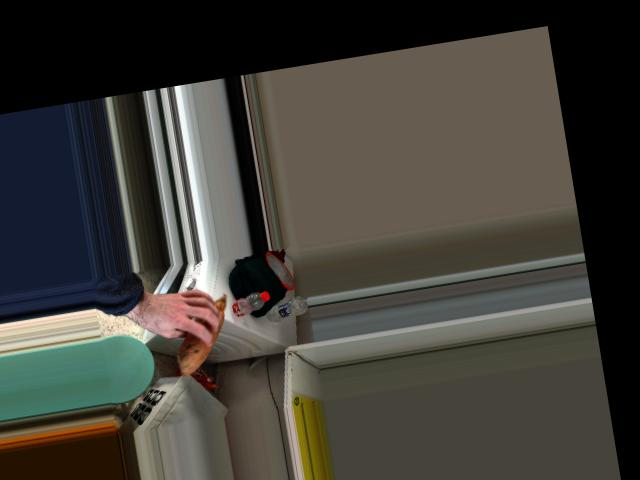sweet_potato: (169, 288, 234, 370)
